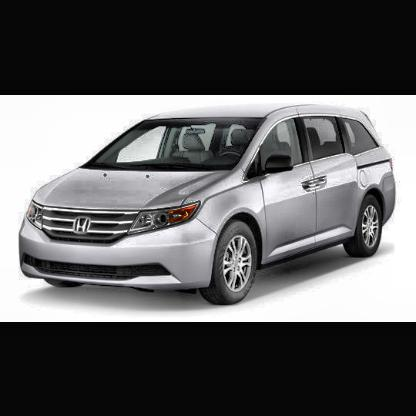Honda Odyssey Minivan 2012: (18, 100, 401, 308)
